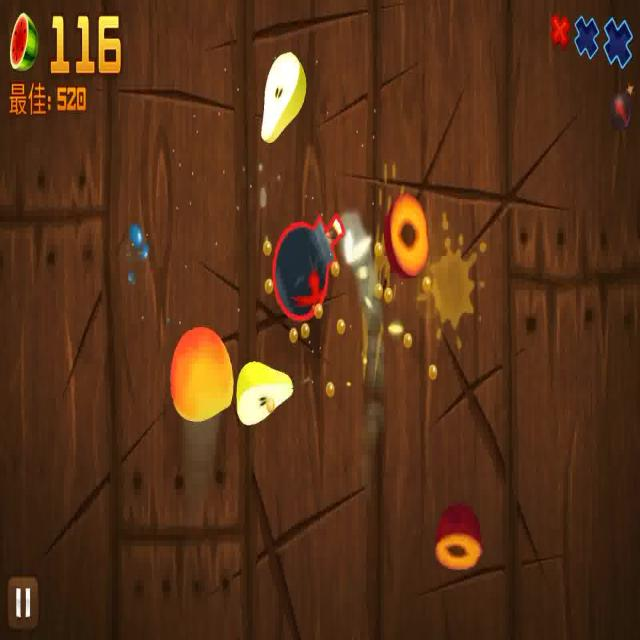bomb: (266, 197, 352, 342)
fruit: (166, 321, 234, 419), (258, 49, 308, 146), (384, 187, 431, 277), (234, 359, 295, 427), (431, 502, 482, 568)
